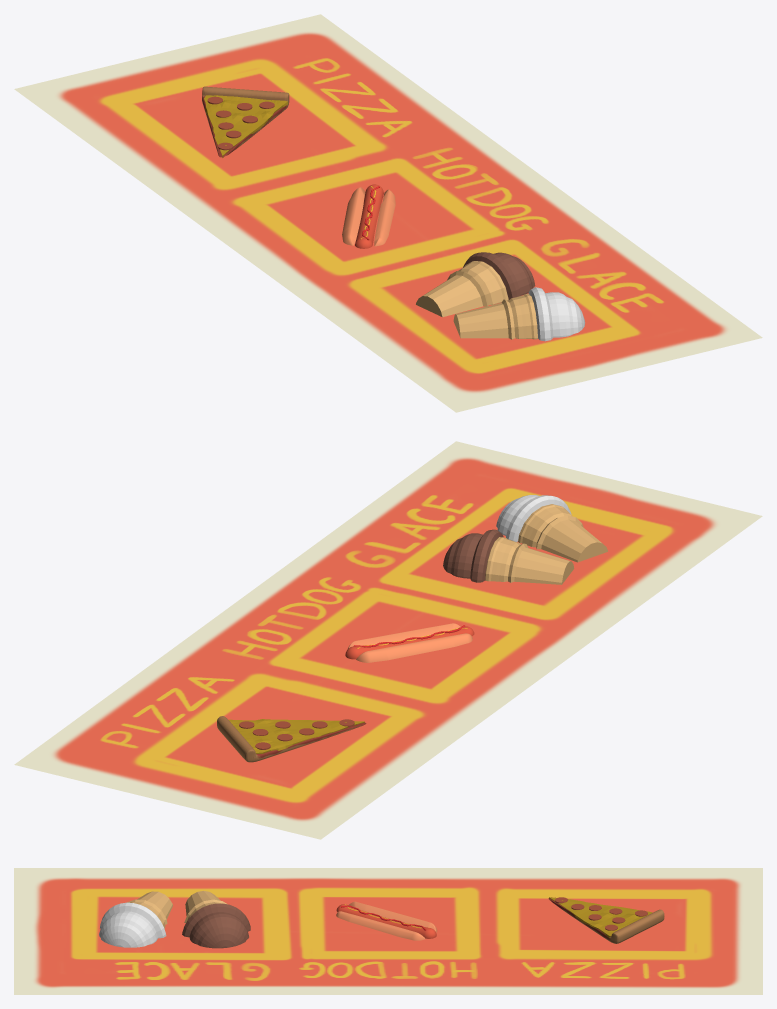
The model's file is FoodCourtSign.fbx.
The picture shows the model from 3 angles, top to bottom: view 1: azimuth 30°, elevation 25°; view 2: azimuth 150°, elevation 25°; view 3: azimuth 270°, elevation 25°; orthographic projection. The views are drawn at different scales.
Visible parts, largest first — view 1: Cube; view 2: Cube; view 3: Cube.
Part boxes in pixels (left/top/right/bottom): Cube: left=14, top=14, right=762, bottom=412; Cube: left=14, top=441, right=762, bottom=839; Cube: left=14, top=868, right=762, bottom=994.
Bounding box in the file's own units: 534 × 127 × 1334.
12 materials, 2 textured.
